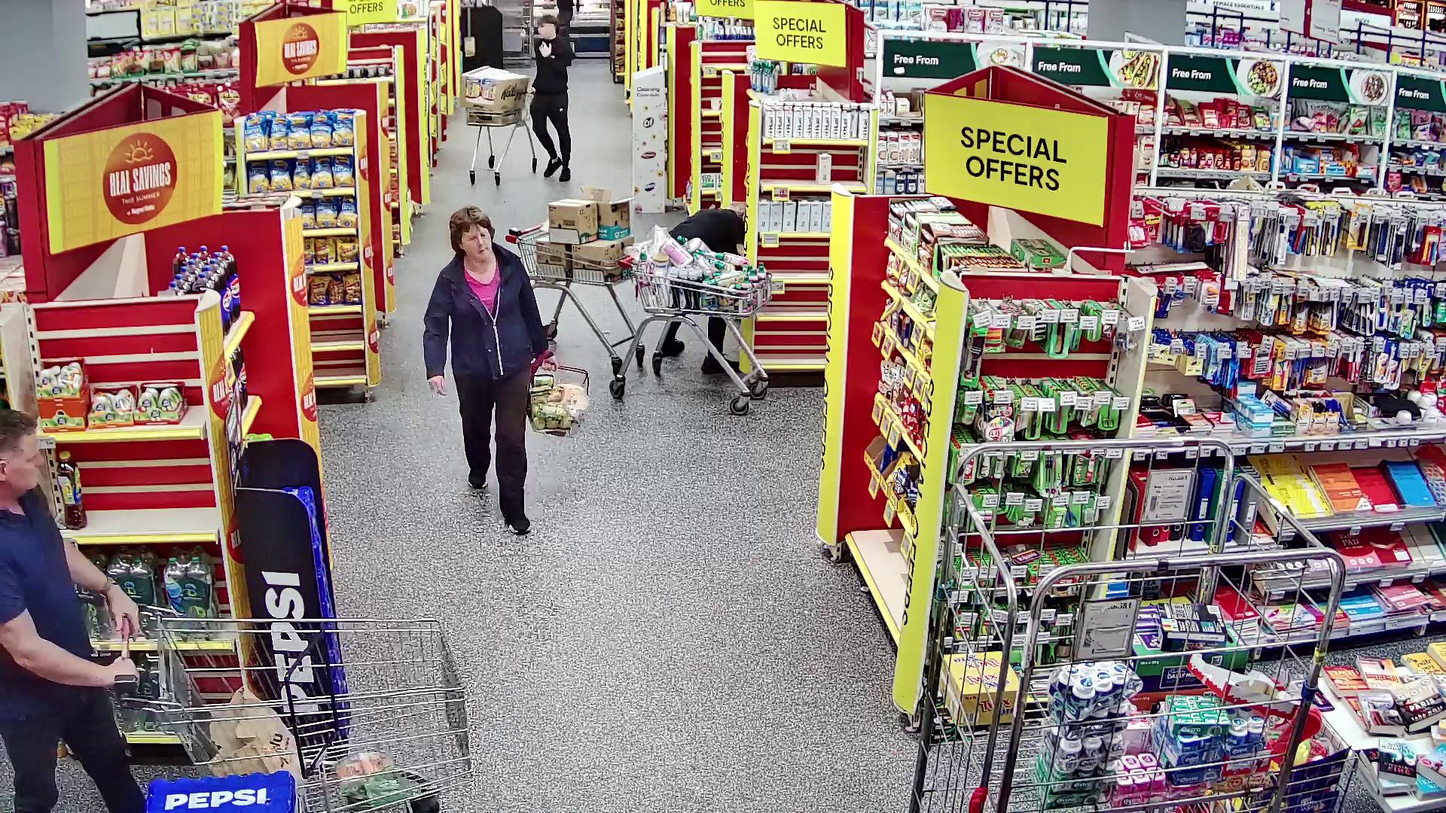filled-basket: (529, 356, 589, 437)
filled-shopping-bags: (207, 688, 302, 813)
filled-trolly: (114, 600, 474, 813)
person: (0, 412, 140, 813), (423, 207, 555, 532)
person-with-basket-trolly-and-shopping-bag: (0, 408, 475, 813)
person-with-filled-basket-trolly: (423, 207, 589, 532)
